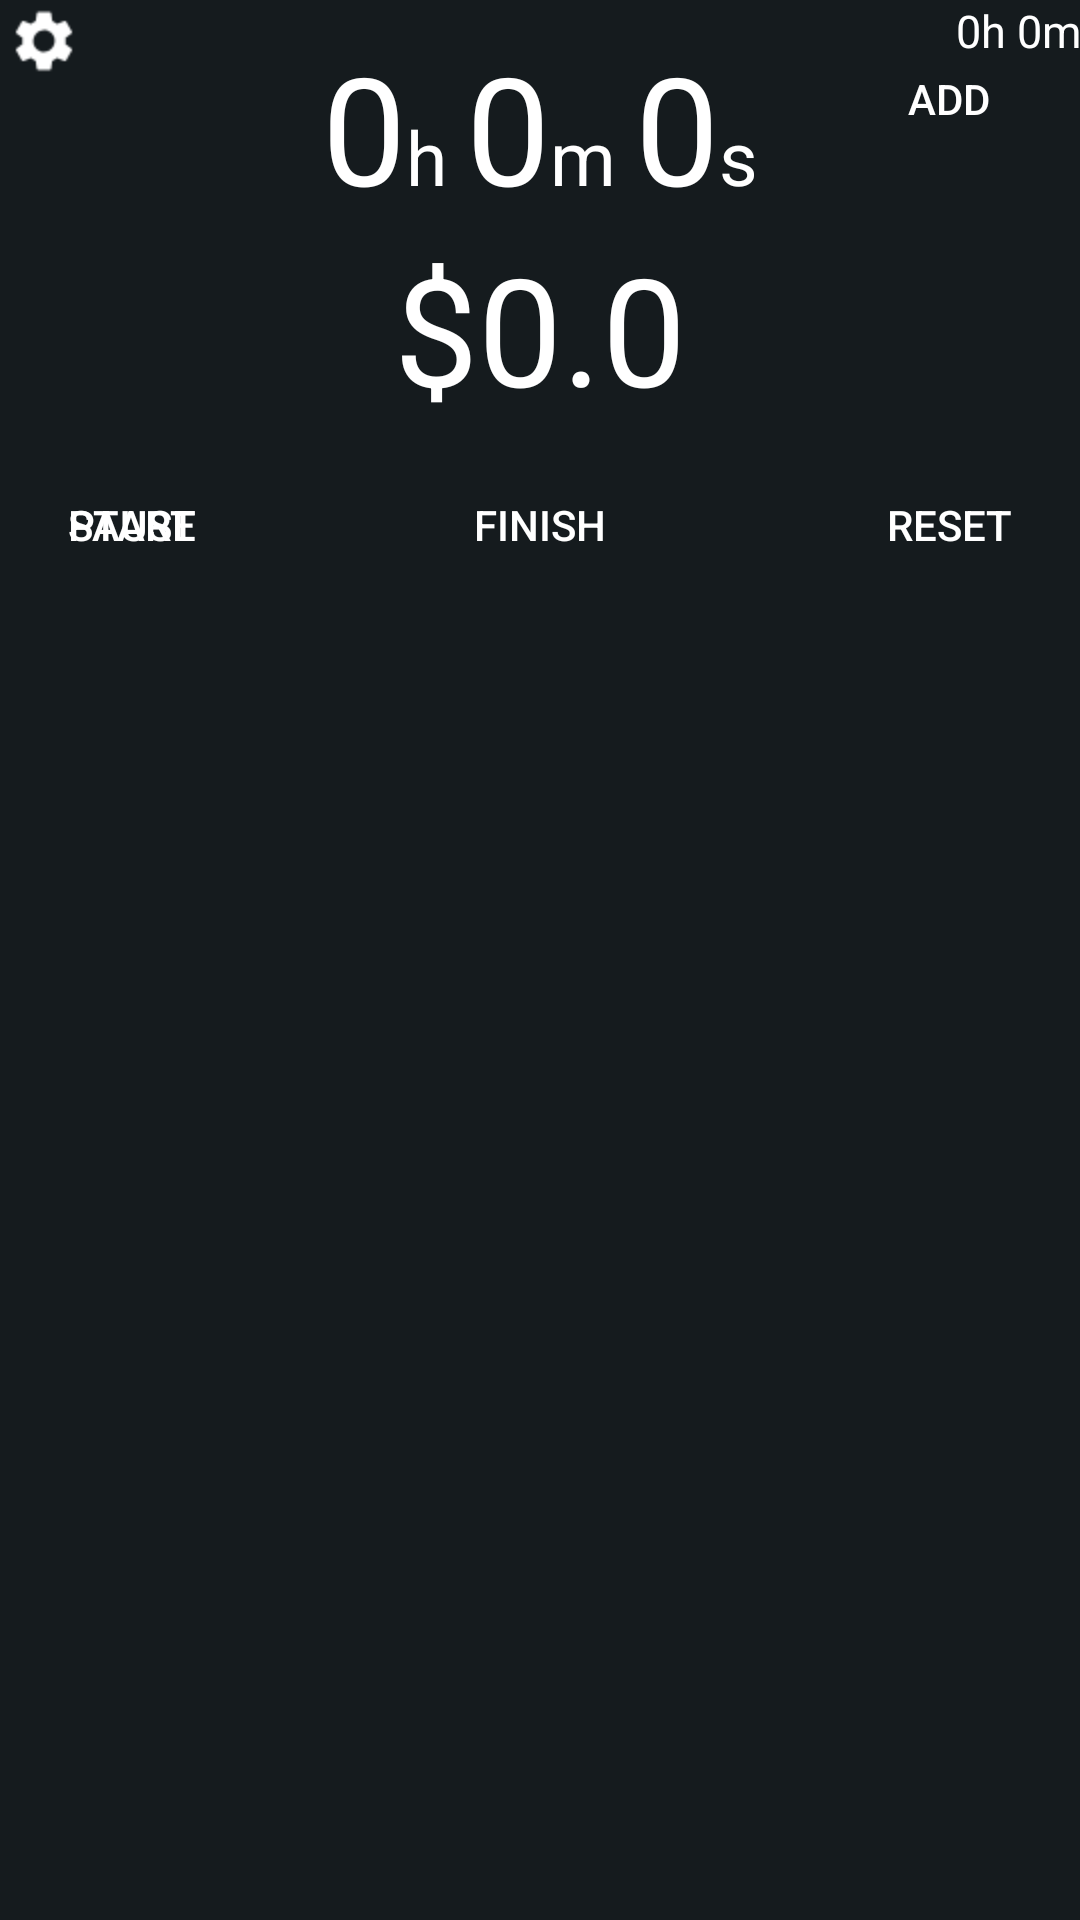

Where to tap for icons on this 1080 × 1920 app screen, as (x=x, y=y):
Settings button: (x=44, y=41)
